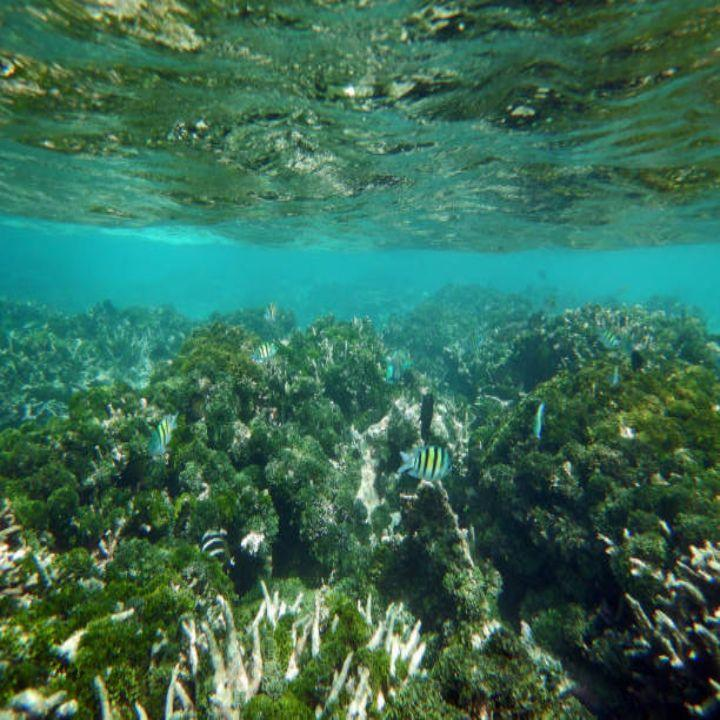Healthy Coral: (13, 324, 706, 715)
